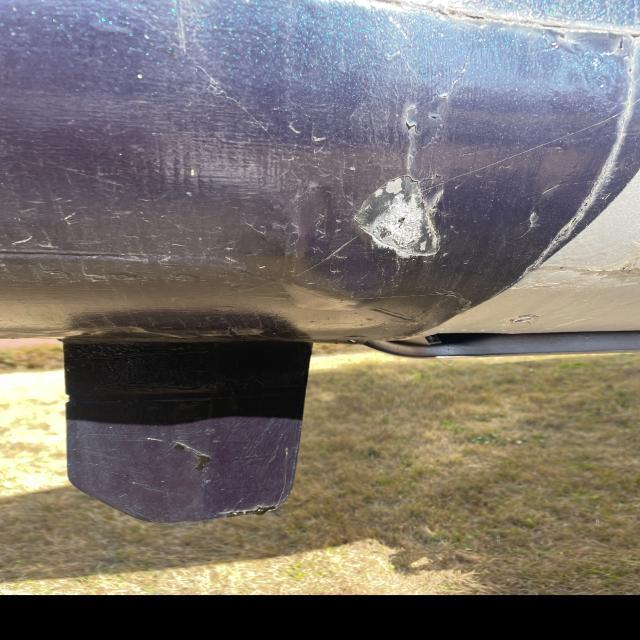crack: (392, 113, 455, 137)
dent: (352, 179, 444, 258)
